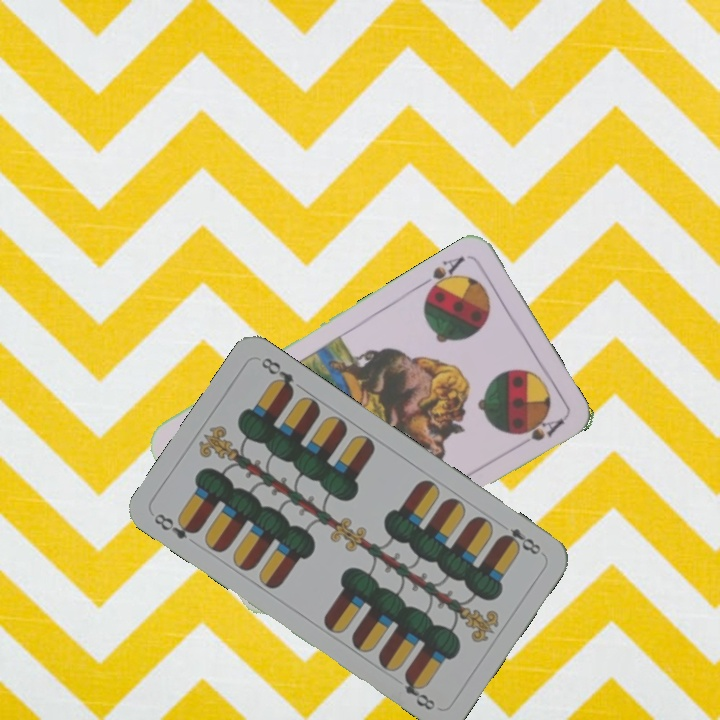E8: (149, 509, 202, 542), (496, 524, 546, 558)
SA: (416, 252, 468, 298)
